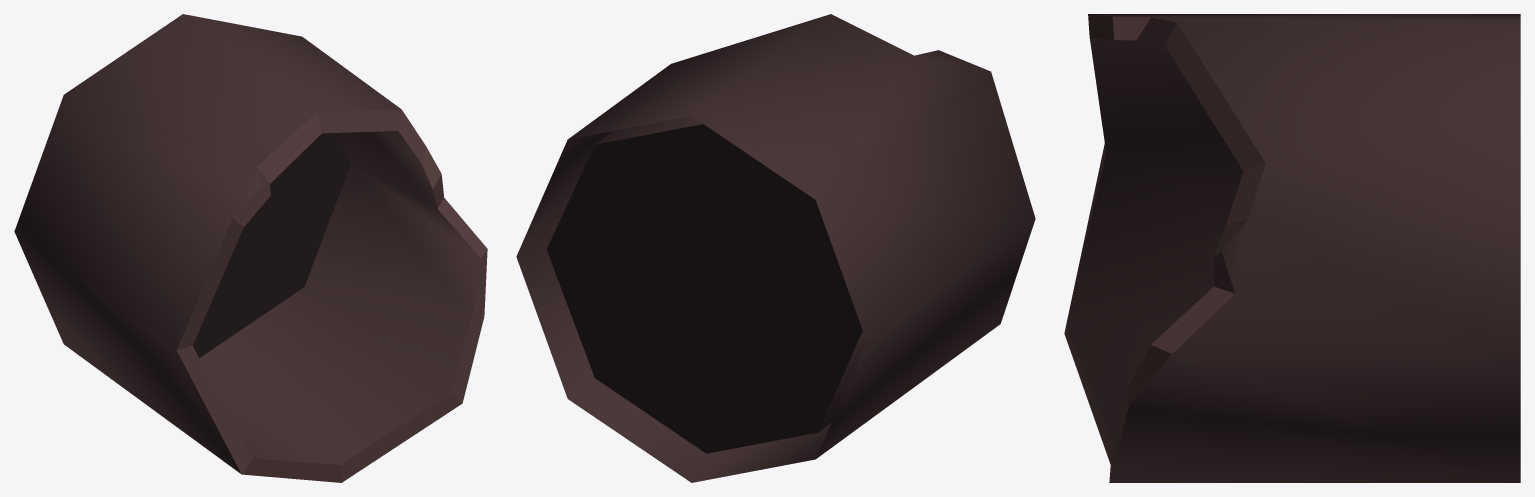
The model's file is SW_ENV_PipeStraight_Broken_02.fbx.
3 renders of one model, left to right at view 1: azimuth 30°, elevation 25°; view 2: azimuth 150°, elevation 25°; view 3: azimuth 270°, elevation 25°, orthographic. The views are drawn at different scales.
Parts seen in each view (by area): view 1: SW_ENV_PipeStraight_Broken_02; view 2: SW_ENV_PipeStraight_Broken_02; view 3: SW_ENV_PipeStraight_Broken_02.
Boxes of the visible parts, <box> form: SW_ENV_PipeStraight_Broken_02: <box>14,14,487,482</box>; SW_ENV_PipeStraight_Broken_02: <box>516,14,1035,482</box>; SW_ENV_PipeStraight_Broken_02: <box>1064,14,1520,482</box>.
Bounding box in the file's own units: 0.15 × 0.15 × 0.1371.
